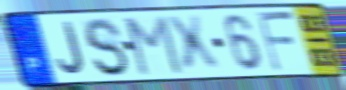6: (222, 13, 264, 73)
F: (254, 9, 299, 73)
J: (56, 20, 88, 77)
M: (124, 14, 186, 78)
S: (82, 16, 131, 79)
X: (162, 13, 224, 75)
